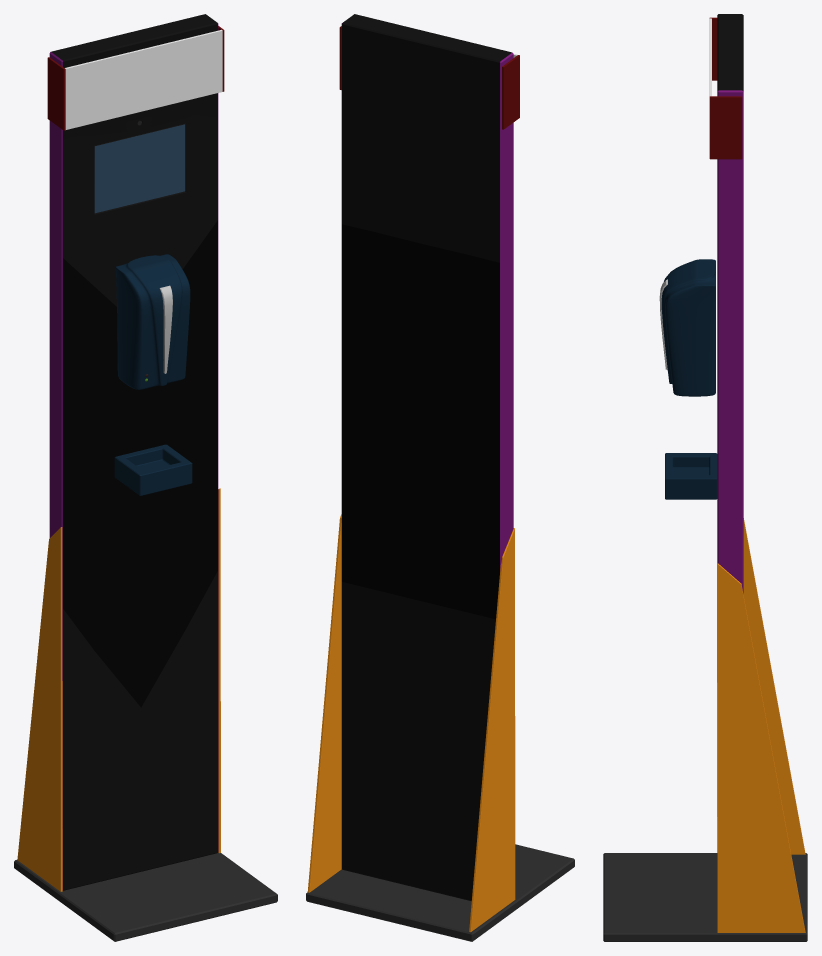
Rendered from covid.obj.
The picture shows the model from 3 angles, left to right: view 1: azimuth 30°, elevation 25°; view 2: azimuth 150°, elevation 25°; view 3: azimuth 270°, elevation 25°; orthographic projection.
Visible parts, largest first — view 1: pCube6, pCube3, pCube10, pCube7, dispenser_gel, vidro_protetor, dispenser_cuba, pCube9, pCube8; view 2: pCube6, pCube10, pCube3, pCube8, pCube9; view 3: pCube8, pCube6, pCube3, dispenser_gel, pCube10, dispenser_cuba, pCube11.
Boxes of the visible parts, x1,y1,x2,y2 form: pCube6: [49, 14, 218, 890]; pCube3: [14, 853, 277, 941]; pCube10: [17, 527, 62, 891]; pCube7: [65, 29, 222, 130]; dispenser_gel: [115, 254, 190, 389]; vidro_protetor: [94, 124, 185, 213]; dispenser_cuba: [114, 444, 192, 495]; pCube9: [47, 57, 65, 130]; pCube8: [218, 488, 220, 853]; pCube6: [341, 14, 513, 901]; pCube10: [469, 528, 515, 931]; pCube3: [306, 844, 574, 941]; pCube8: [307, 514, 341, 892]; pCube9: [502, 55, 519, 129]; pCube8: [717, 563, 805, 932]; pCube6: [717, 14, 743, 816]; pCube3: [603, 853, 807, 941]; dispenser_gel: [659, 259, 715, 396]; pCube10: [743, 518, 805, 854]; dispenser_cuba: [665, 453, 717, 499]; pCube11: [709, 96, 742, 159].
Bounding box in the file's own units: 3.66 × 17.88 × 3.9.
